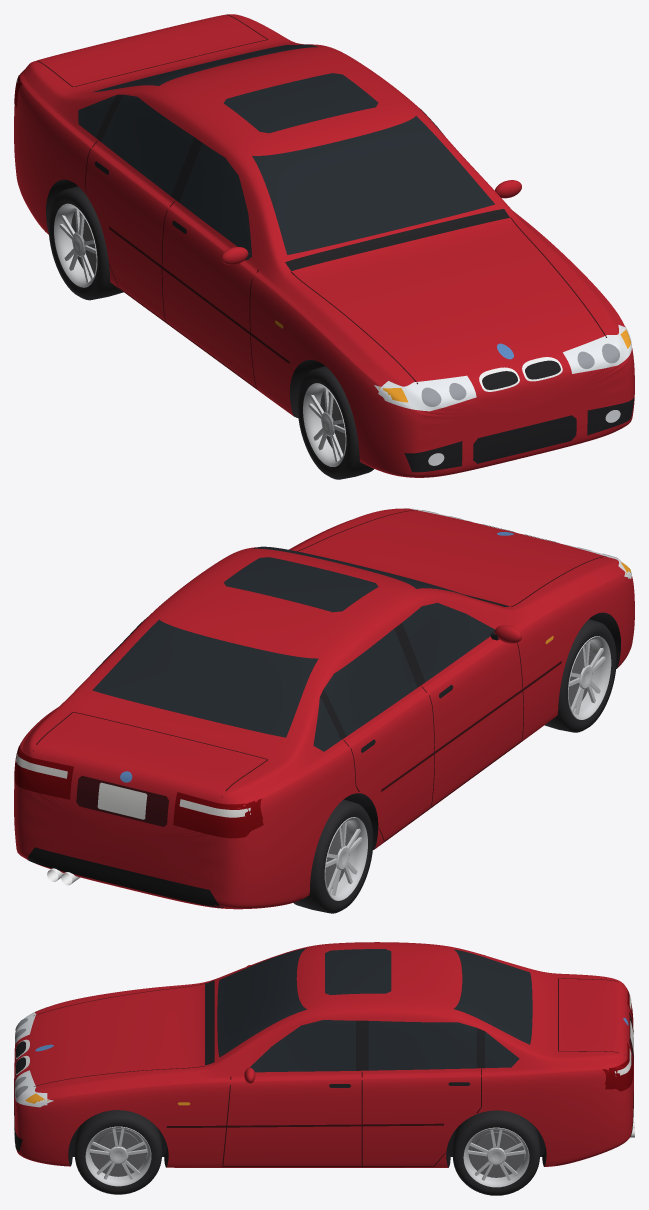
The picture shows the model from 3 angles, top to bottom: view 1: azimuth 30°, elevation 25°; view 2: azimuth 150°, elevation 25°; view 3: azimuth 270°, elevation 25°; orthographic projection. The views are drawn at different scales.
Parts seen in each view (by area): view 1: body, trim, wheel_fr, wheel_rr; view 2: body, trim, wheel_rr, wheel_fr; view 3: body, trim, wheel_rl, wheel_fl.
Boxes of the visible parts, <box> form: body: <box>14,14,634,477</box>; trim: <box>14,14,634,472</box>; wheel_fr: <box>297,366,373,479</box>; wheel_rr: <box>48,186,123,300</box>; body: <box>14,508,634,909</box>; trim: <box>14,508,631,907</box>; wheel_rr: <box>293,799,373,913</box>; wheel_fr: <box>545,619,616,732</box>; body: <box>14,942,633,1167</box>; trim: <box>14,948,634,1166</box>; wheel_rl: <box>452,1110,540,1195</box>; wheel_fl: <box>74,1110,162,1194</box>.
Bounding box in the file's own units: 1.92 × 1.4 × 4.48.
